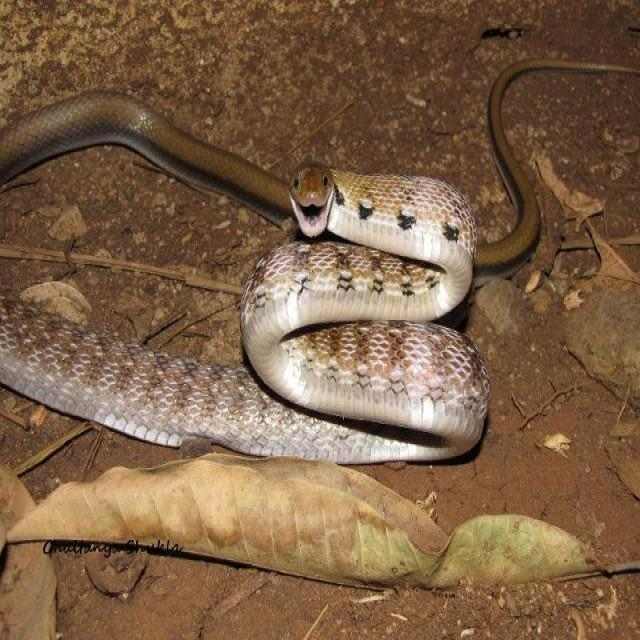Snake: (0, 56, 637, 465)
